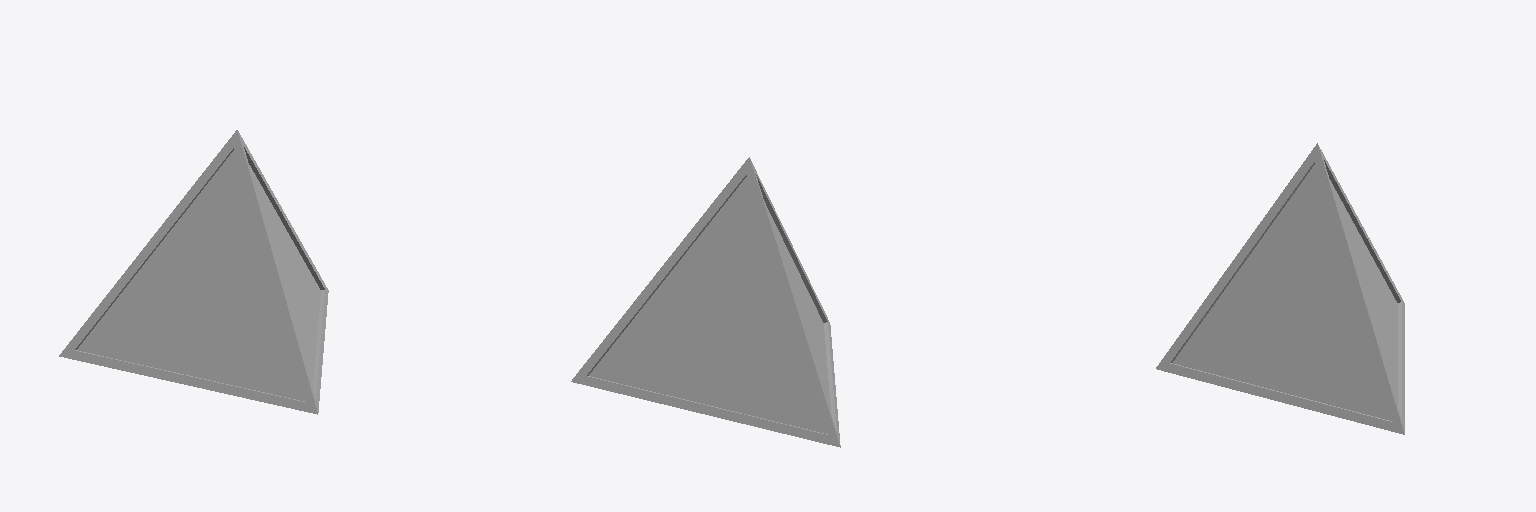
Rendered from ancient_artifact_mx_1.obj.
The picture shows the model from 3 angles: view 1: azimuth 30°, elevation 25°; view 2: azimuth 150°, elevation 25°; view 3: azimuth 270°, elevation 25°; orthographic projection.
Visible parts, largest first — view 1: ancient_artifact_mx_1; view 2: ancient_artifact_mx_1; view 3: ancient_artifact_mx_1.
Boxes of the visible parts, <box> form: ancient_artifact_mx_1: <box>59,130,328,414</box>; ancient_artifact_mx_1: <box>571,157,840,447</box>; ancient_artifact_mx_1: <box>1156,143,1404,434</box>.
Size of the model in its own units: 0.5 by 0.4 by 0.4.